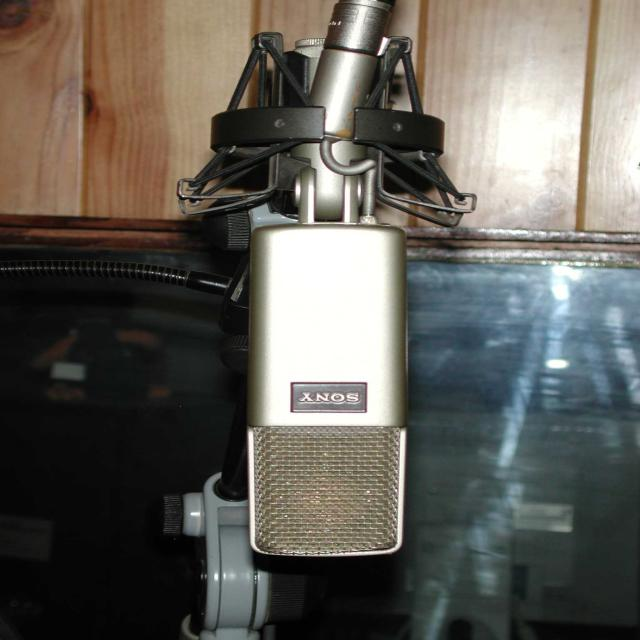microphone: (247, 225, 411, 556)
